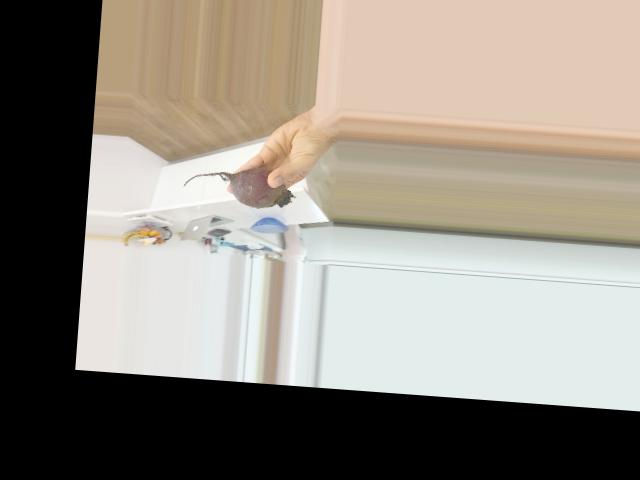beet: (181, 163, 296, 210)
